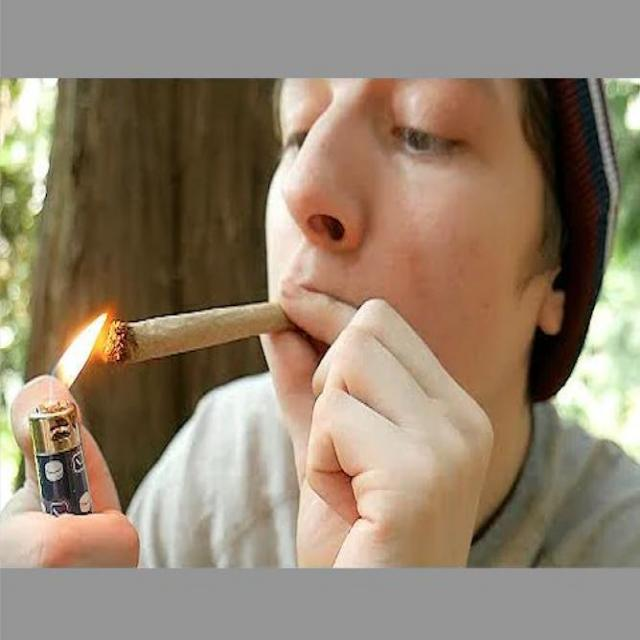cigarette: (70, 267, 323, 386)
